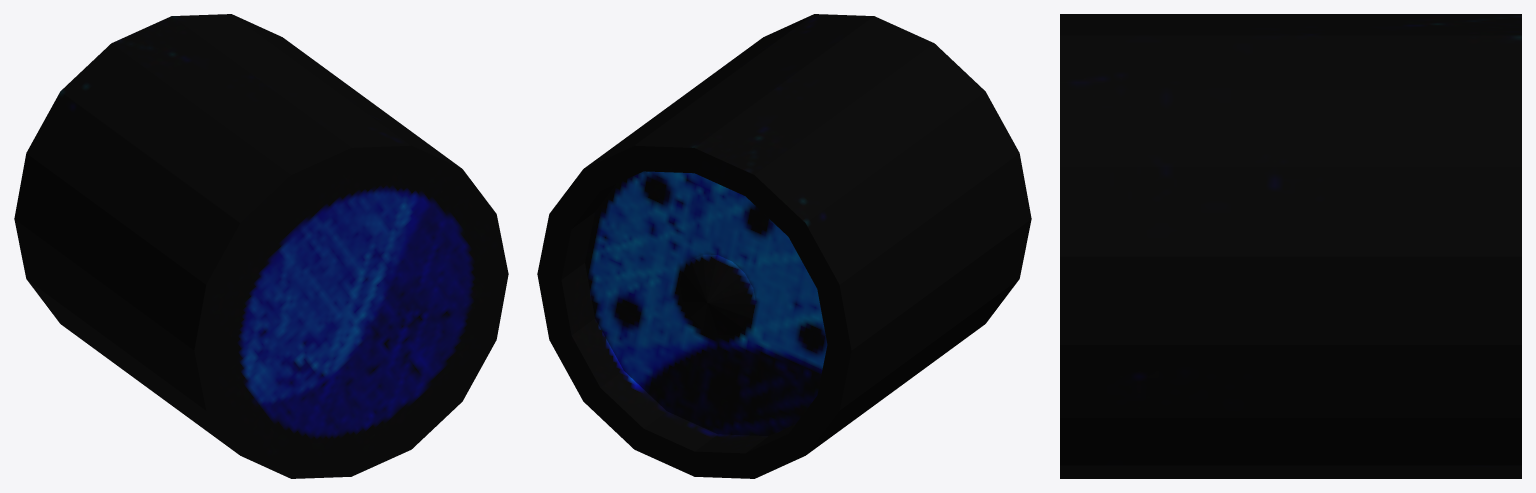
The model's file is fbrw.obj.
3 views of the same model, side by side, from view 1: azimuth 30°, elevation 25°; view 2: azimuth 150°, elevation 25°; view 3: azimuth 270°, elevation 25° (orthographic). The views are drawn at different scales.
Visible parts, largest first — view 1: fbrw_Cylinder.004; view 2: fbrw_Cylinder.004; view 3: fbrw_Cylinder.004.
Part boxes in pixels (x1=…): fbrw_Cylinder.004: x1=14, y1=14, x2=508, y2=478; fbrw_Cylinder.004: x1=537, y1=14, x2=1031, y2=478; fbrw_Cylinder.004: x1=1060, y1=14, x2=1521, y2=478.
Bounding box in the file's own units: 0.7388 × 0.7388 × 0.7329.
Materials: 1 (1 with a texture image).
